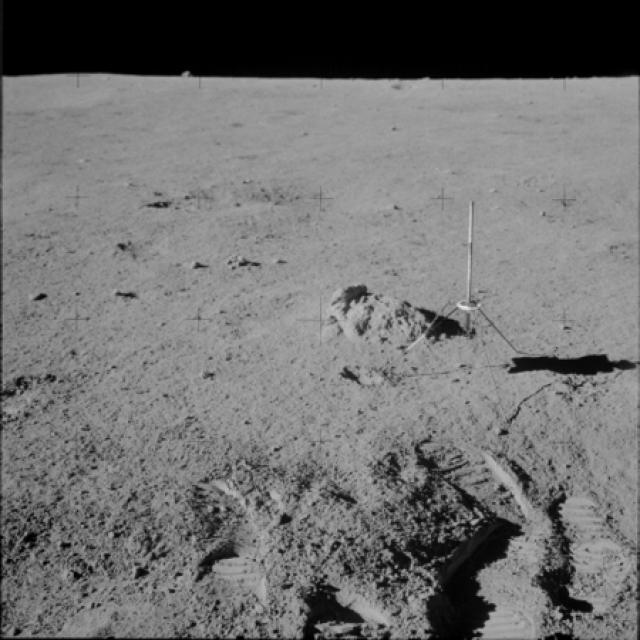crater: (164, 171, 363, 211), (112, 228, 175, 273)
rock: (317, 272, 463, 354)
